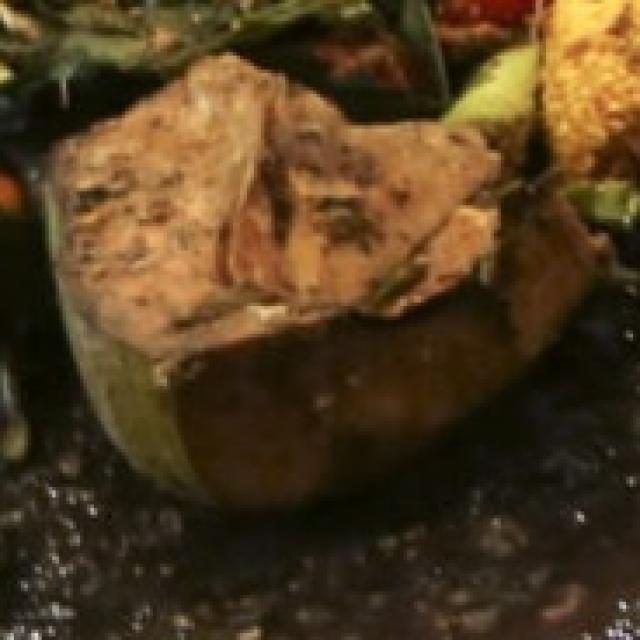food waste: (69, 0, 640, 532)
